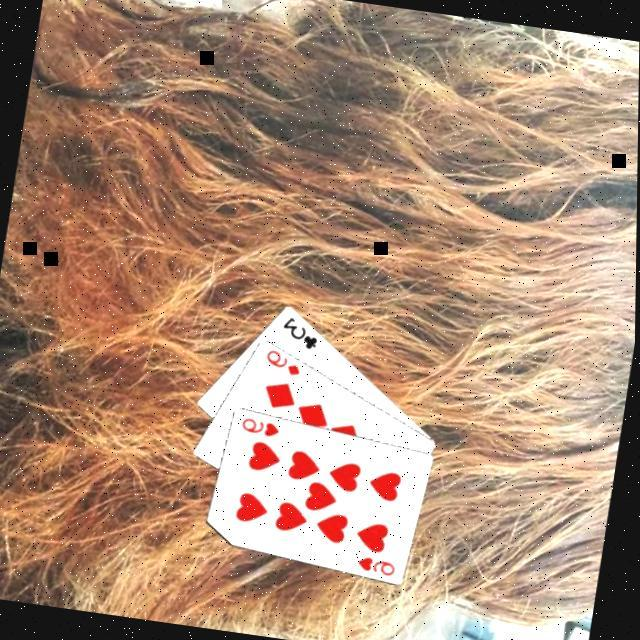3C: (278, 314, 325, 356)
9D: (262, 346, 308, 382)
9H: (239, 415, 285, 442), (354, 554, 400, 581)
